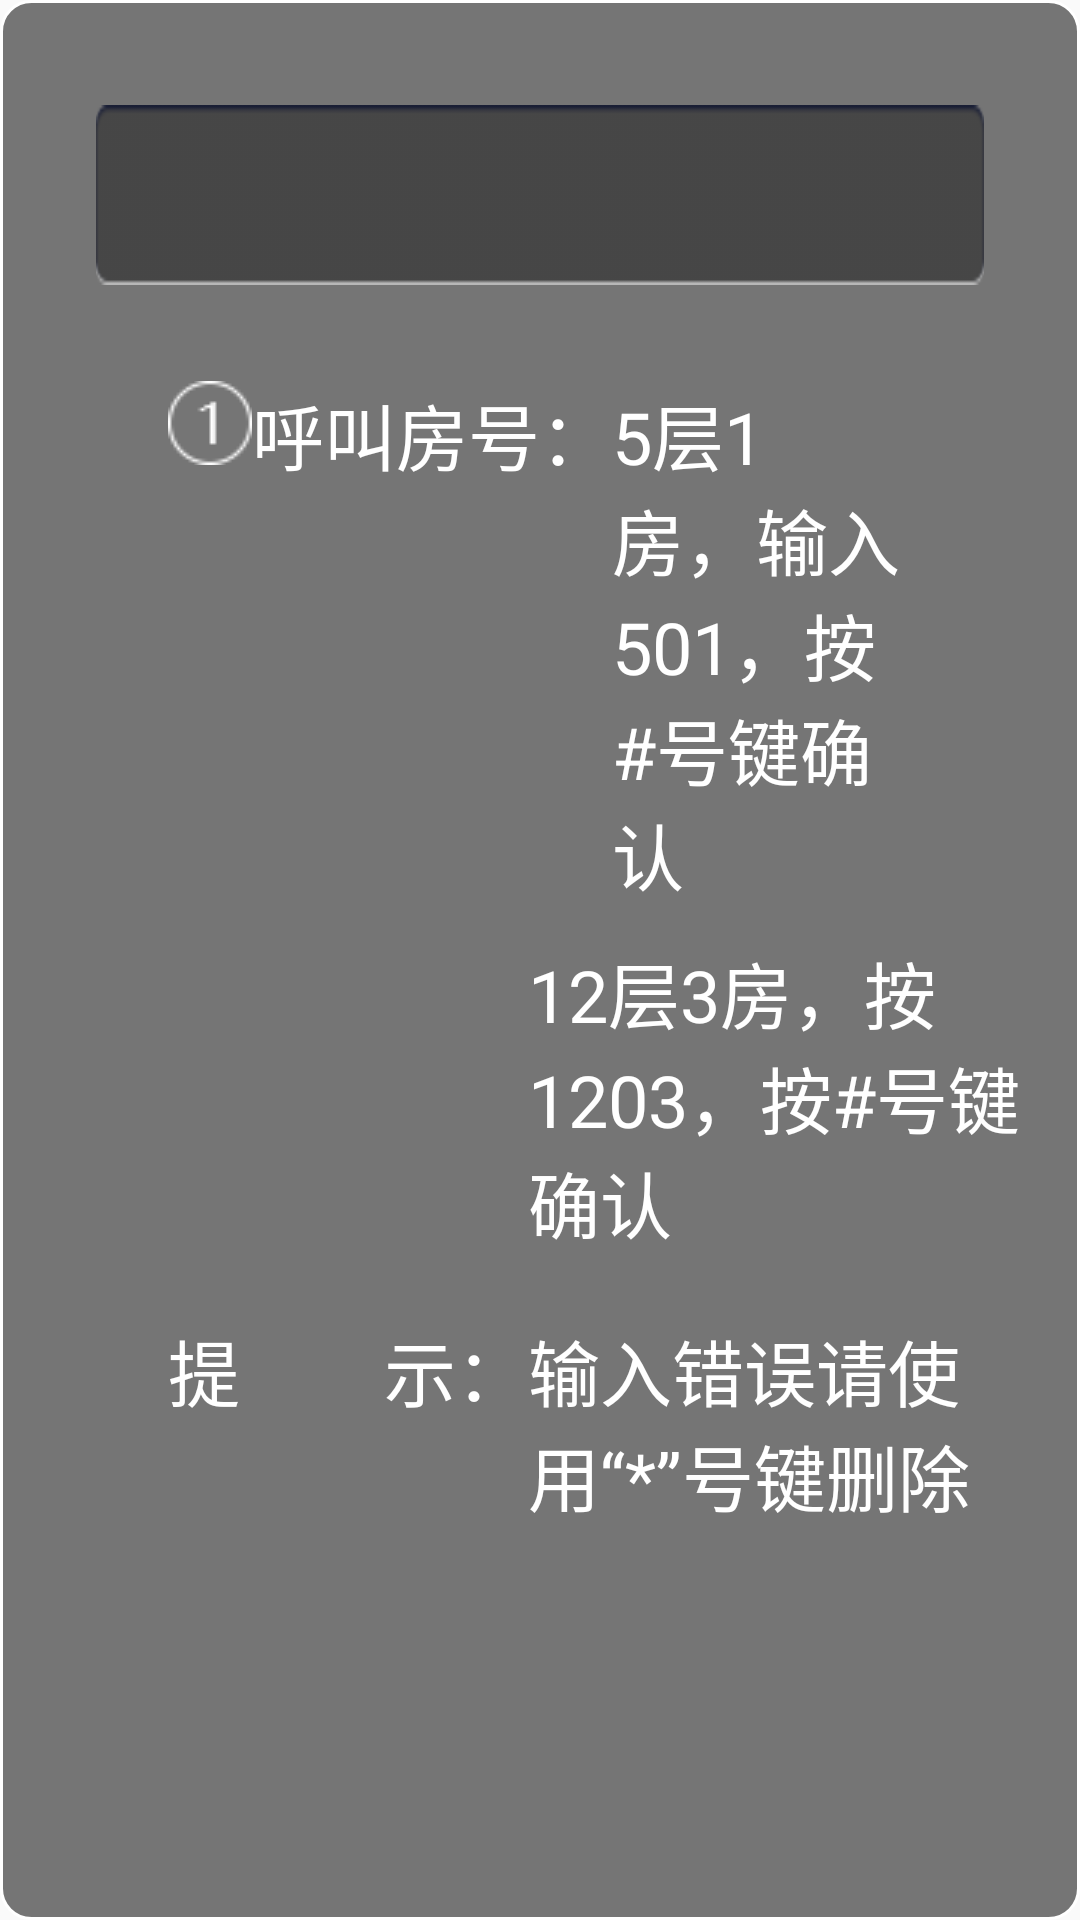

Named icons in this screenshot (1080 x 1920) and their centers, [x,y]:
num: [210,423]
